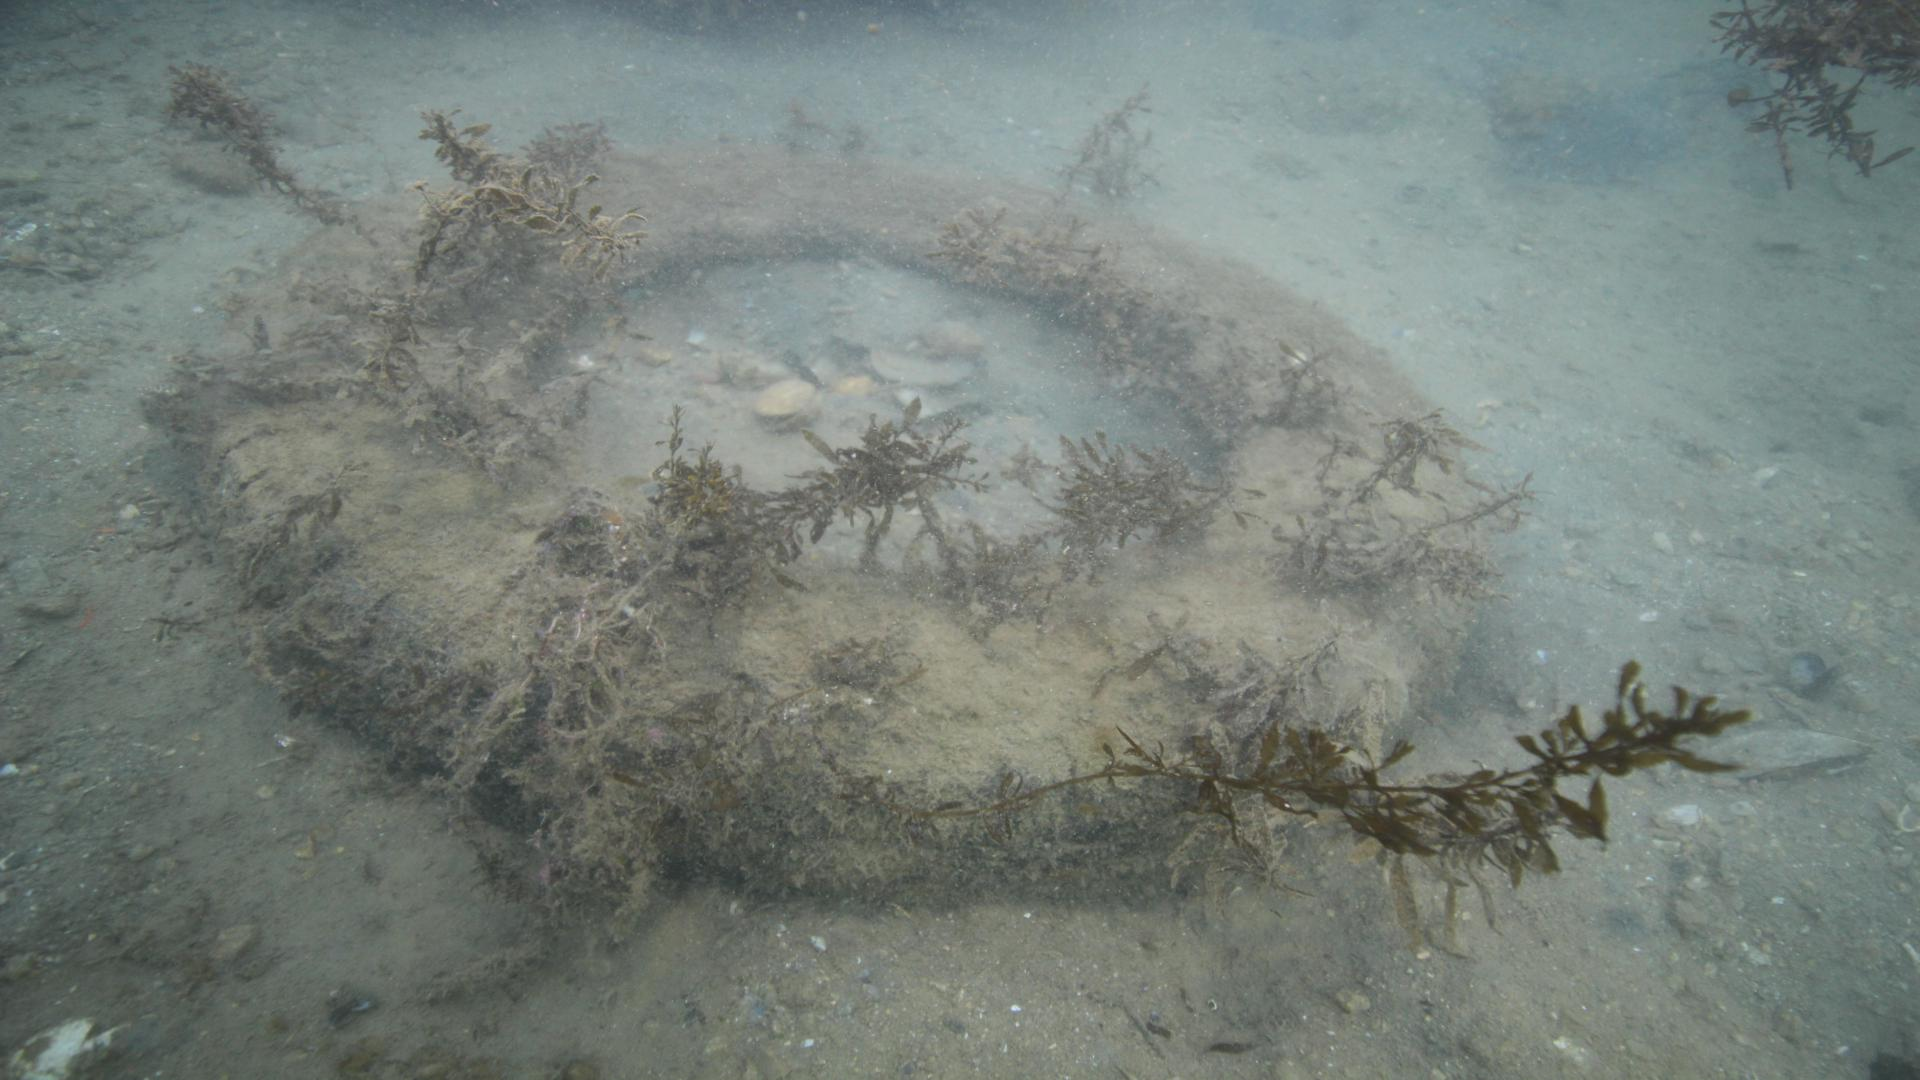tire: (203, 140, 1480, 902)
